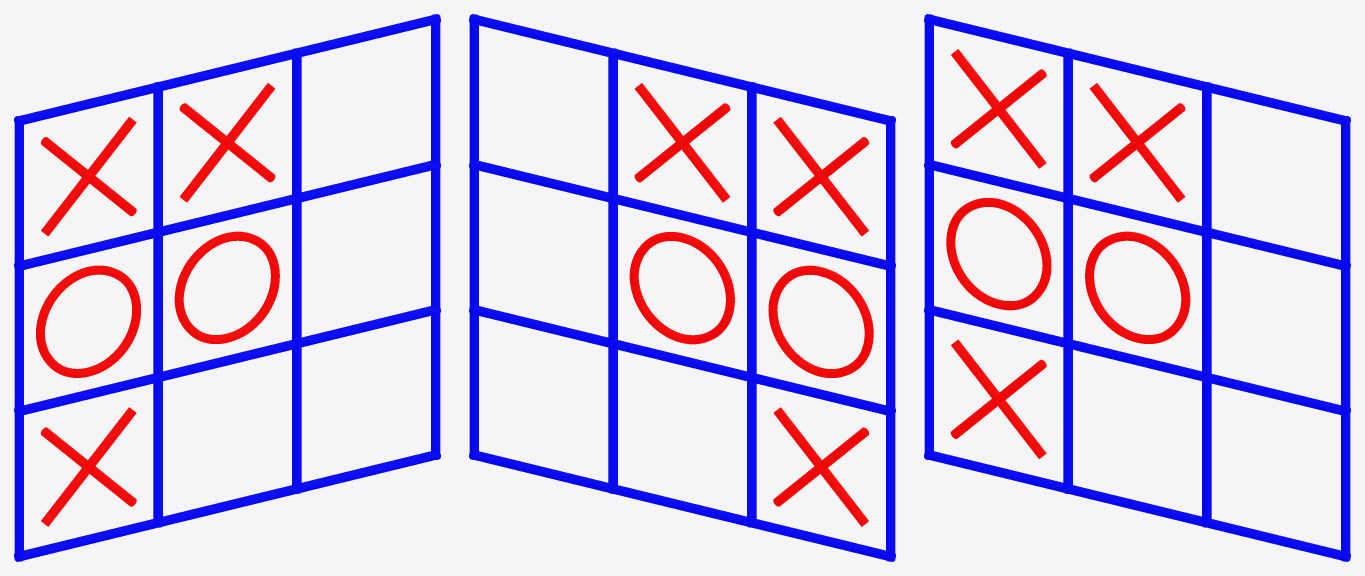
3 renders of one model, left to right at view 1: azimuth 30°, elevation 25°; view 2: azimuth 150°, elevation 25°; view 3: azimuth 330°, elevation 25°, orthographic.
Size of the model in its own units: 1.02 by 1.02 by 0.0199.
